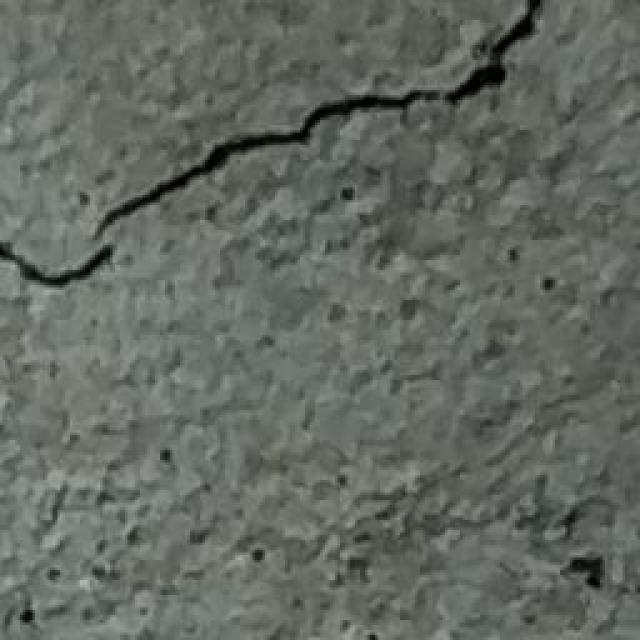Diagonal: (0, 0, 546, 296)
